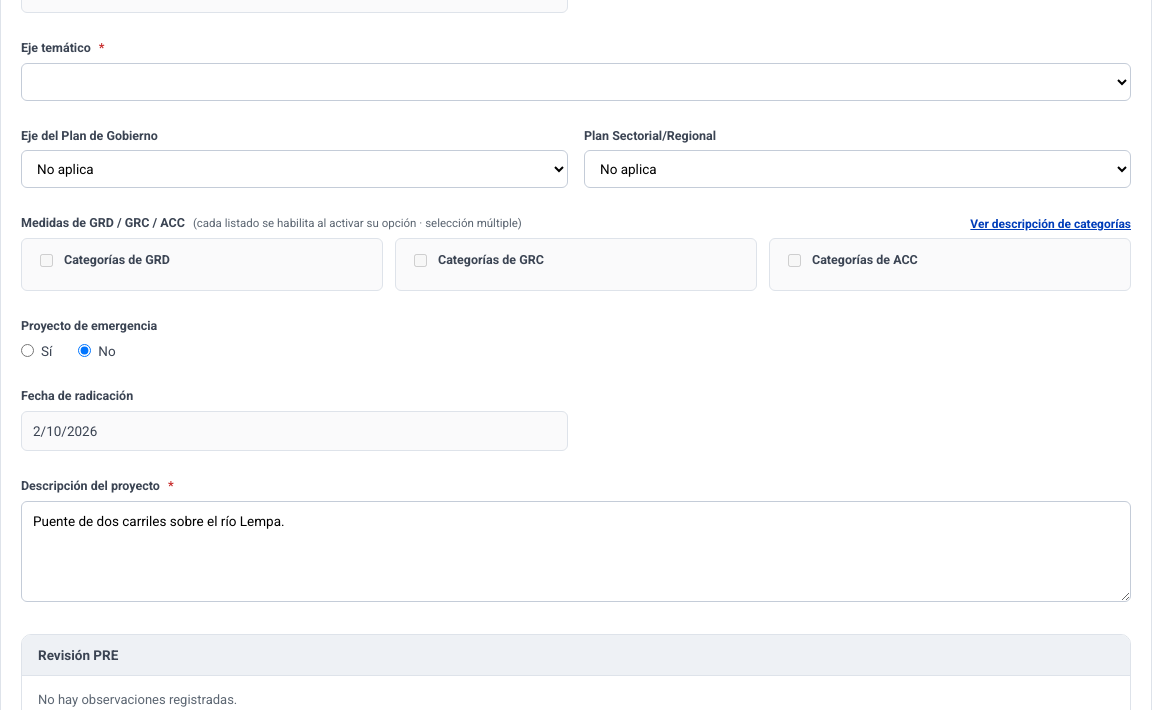
Test: ProyectoFormPage — formulario › revela tipo de evento y N° de DL sólo al marcar "Proyecto de emergencia"
(page scrolled)
Click the radio button labelled "Sí": (28, 351) [21,344,34,357]
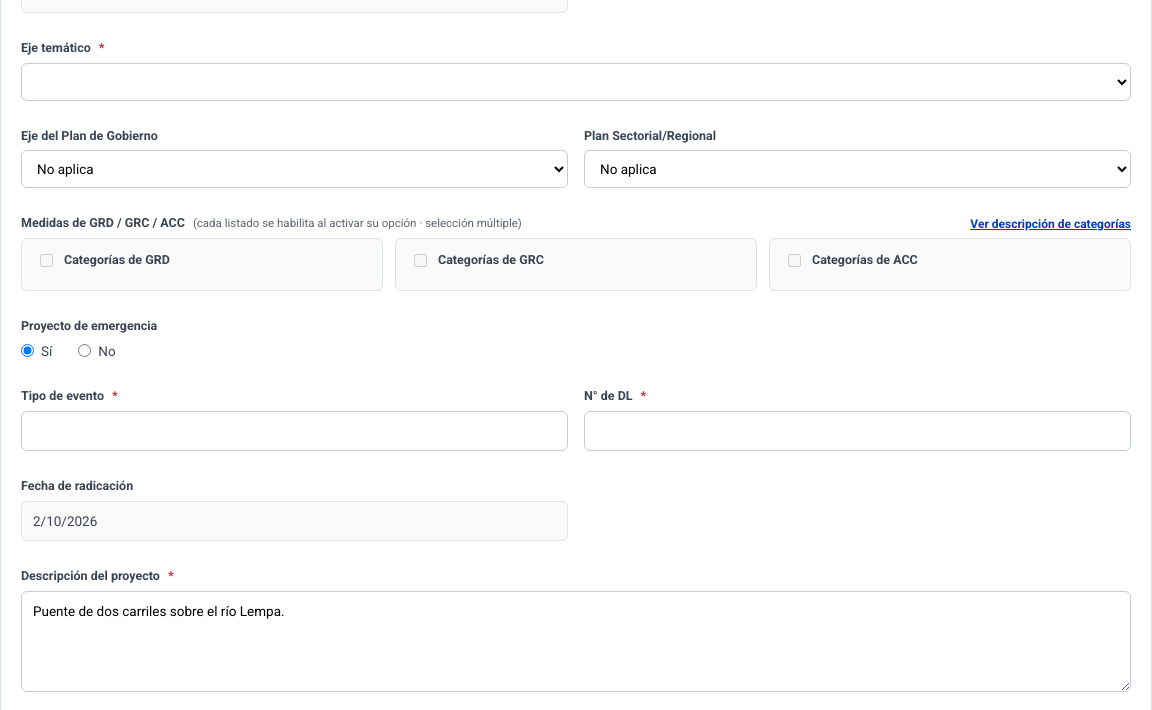
Now the field named "Tipo de evento*" is shown, box [21,411,568,451]
Now the field named "N° de DL*" is shown, box [584,411,1131,451]
